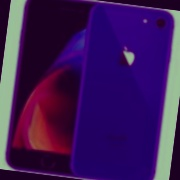iphone: (15, 2, 100, 178)
